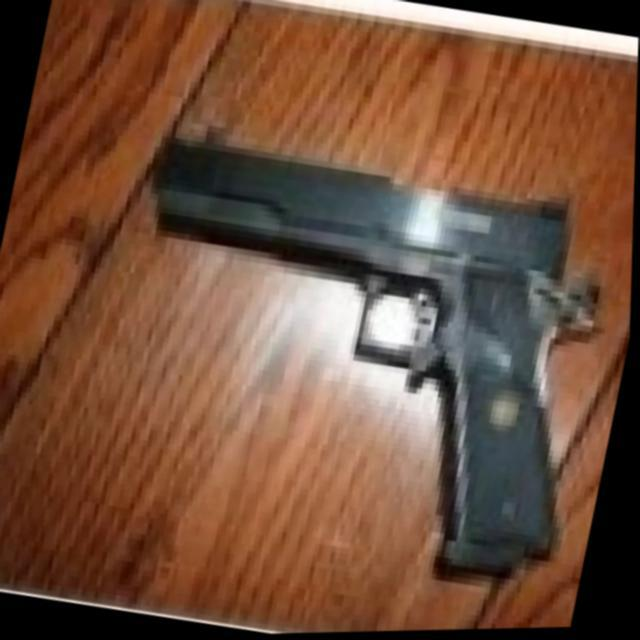weapon: (81, 111, 632, 596)
